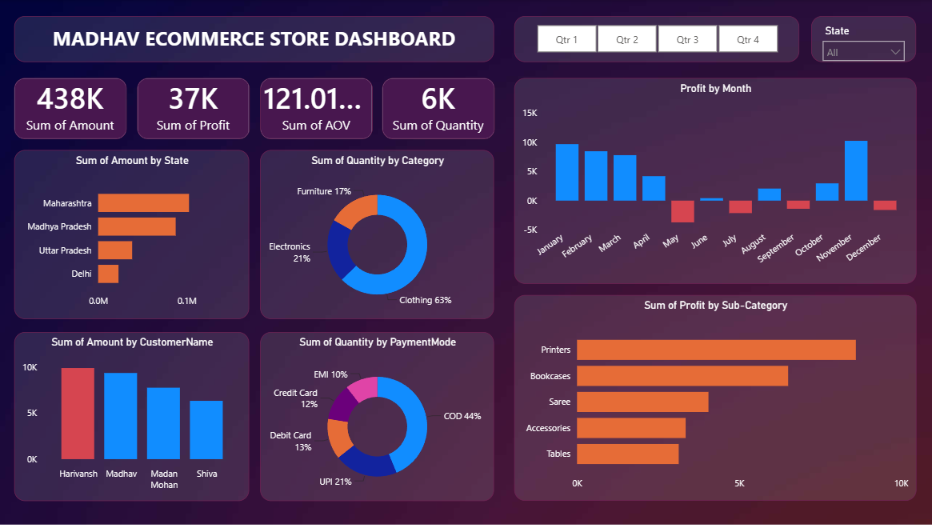

This screenshot's page, from the dashboard's own definition file:
{"tool":"powerbi","page":{"name":"Page 1","canvas":[1280,720],"ordinal":0},"visuals":[{"type":"textbox","box":[20.6,22,658.7,63.1],"z":0},{"type":"columnChart","title":"Profit by Month","fields":{"Y":["Sum(Details.Profit)"],"Category":["Orders.Order Date.Variation.Date Hierarchy.Month"]},"box":[706.7,107,551.6,282.7],"z":1000},{"type":"barChart","fields":{"Category":["Details.Sub-Category"],"Y":["Sum(Details.Profit)"]},"box":[706.7,404.8,551.6,282.7],"z":2000},{"type":"donutChart","fields":{"Y":["Sum(Details.Quantity)"],"Category":["Details.Category"]},"box":[358.1,205.8,321.1,232],"z":3000},{"type":"donutChart","fields":{"Y":["Sum(Details.Quantity)"],"Category":["Details.PaymentMode"]},"box":[358.1,455.6,321.1,232],"z":4000},{"type":"cardVisual","fields":{"Data":["Sum(Details.Amount)"]},"box":[20.6,107.1,154.3,84.3],"z":5000},{"type":"cardVisual","fields":{"Data":["Sum(Details.AOV)"]},"box":[357.6,107.1,154,84.3],"z":6000},{"type":"cardVisual","fields":{"Data":["Sum(Details.Quantity)"]},"box":[525.3,107.1,154.3,84.3],"z":7000},{"type":"cardVisual","fields":{"Data":["Sum(Details.Profit)"]},"box":[189.4,107,154.3,84.3],"z":8000},{"type":"barChart","fields":{"Category":["Orders.State"],"Y":["Sum(Details.Amount)"]},"box":[20.6,205.8,322.5,231.9],"z":9000},{"type":"columnChart","fields":{"Category":["Orders.CustomerName"],"Y":["Sum(Details.Amount)"]},"box":[20.6,455.6,322.5,231.9],"z":10000},{"type":"slicer","fields":{"Values":["Orders.Order Date.Variation.Date Hierarchy.Quarter"]},"box":[706.7,22,391.1,63.1],"z":11000},{"type":"slicer","fields":{"Values":["Orders.State"]},"box":[1114.2,22,144.1,63.1],"z":12000}]}

Visuals, with their boxes in screenshot pixels (x1, y1, x2, y2), scaled from the page's 1280x720 canvas onto the 932x525 screenshot:
textbox: bbox(15, 16, 495, 62)
"Profit by Month" columnChart: bbox(515, 78, 916, 284)
barChart - Details.Sub-Category x Sum(Details.Profit): bbox(515, 295, 916, 501)
donutChart - Sum(Details.Quantity) x Details.Category: bbox(261, 150, 495, 319)
donutChart - Sum(Details.Quantity) x Details.PaymentMode: bbox(261, 332, 495, 501)
cardVisual - Sum(Details.Amount): bbox(15, 78, 127, 140)
cardVisual - Sum(Details.AOV): bbox(260, 78, 373, 140)
cardVisual - Sum(Details.Quantity): bbox(382, 78, 495, 140)
cardVisual - Sum(Details.Profit): bbox(138, 78, 250, 139)
barChart - Orders.State x Sum(Details.Amount): bbox(15, 150, 250, 319)
columnChart - Orders.CustomerName x Sum(Details.Amount): bbox(15, 332, 250, 501)
slicer - Orders.Order Date.Variation.Date Hierarchy.Quarter: bbox(515, 16, 799, 62)
slicer - Orders.State: bbox(811, 16, 916, 62)
